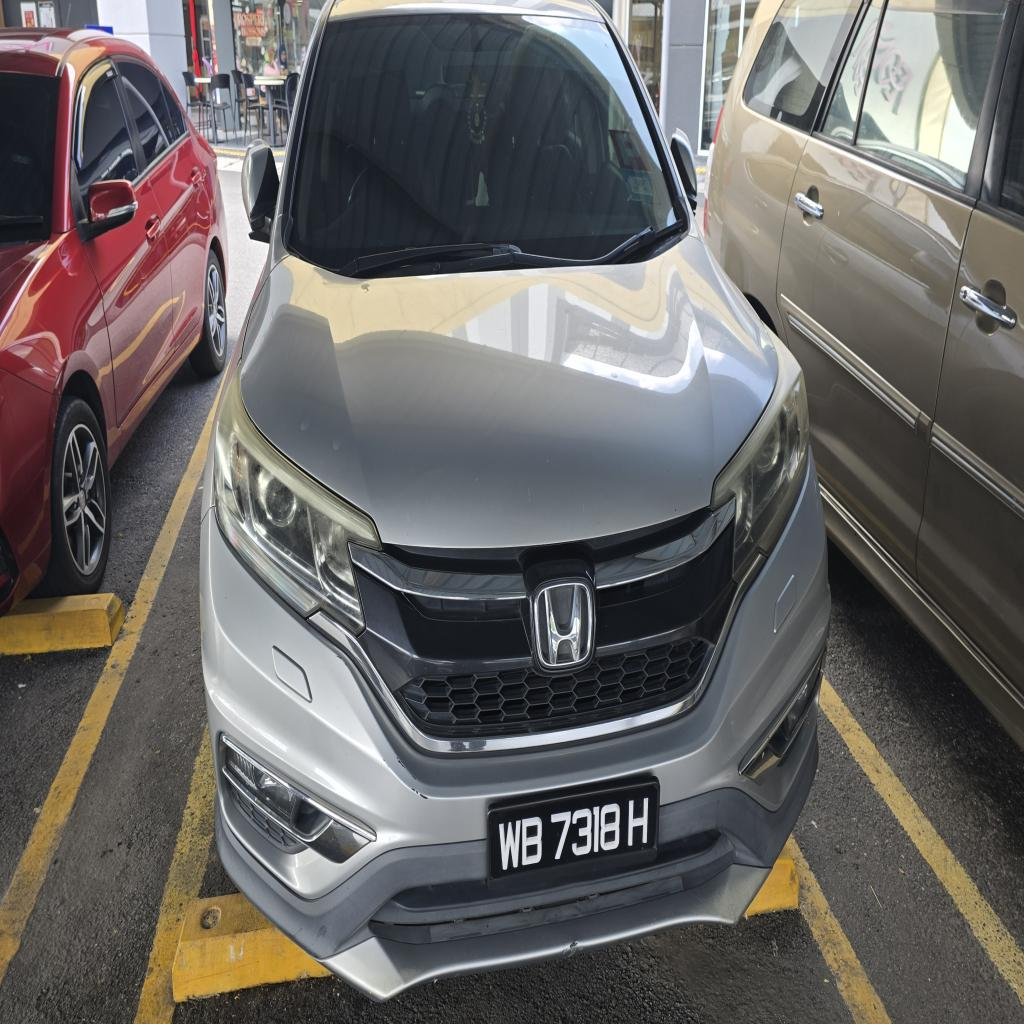car: (201, 0, 830, 998)
car plate: (488, 779, 659, 882)
